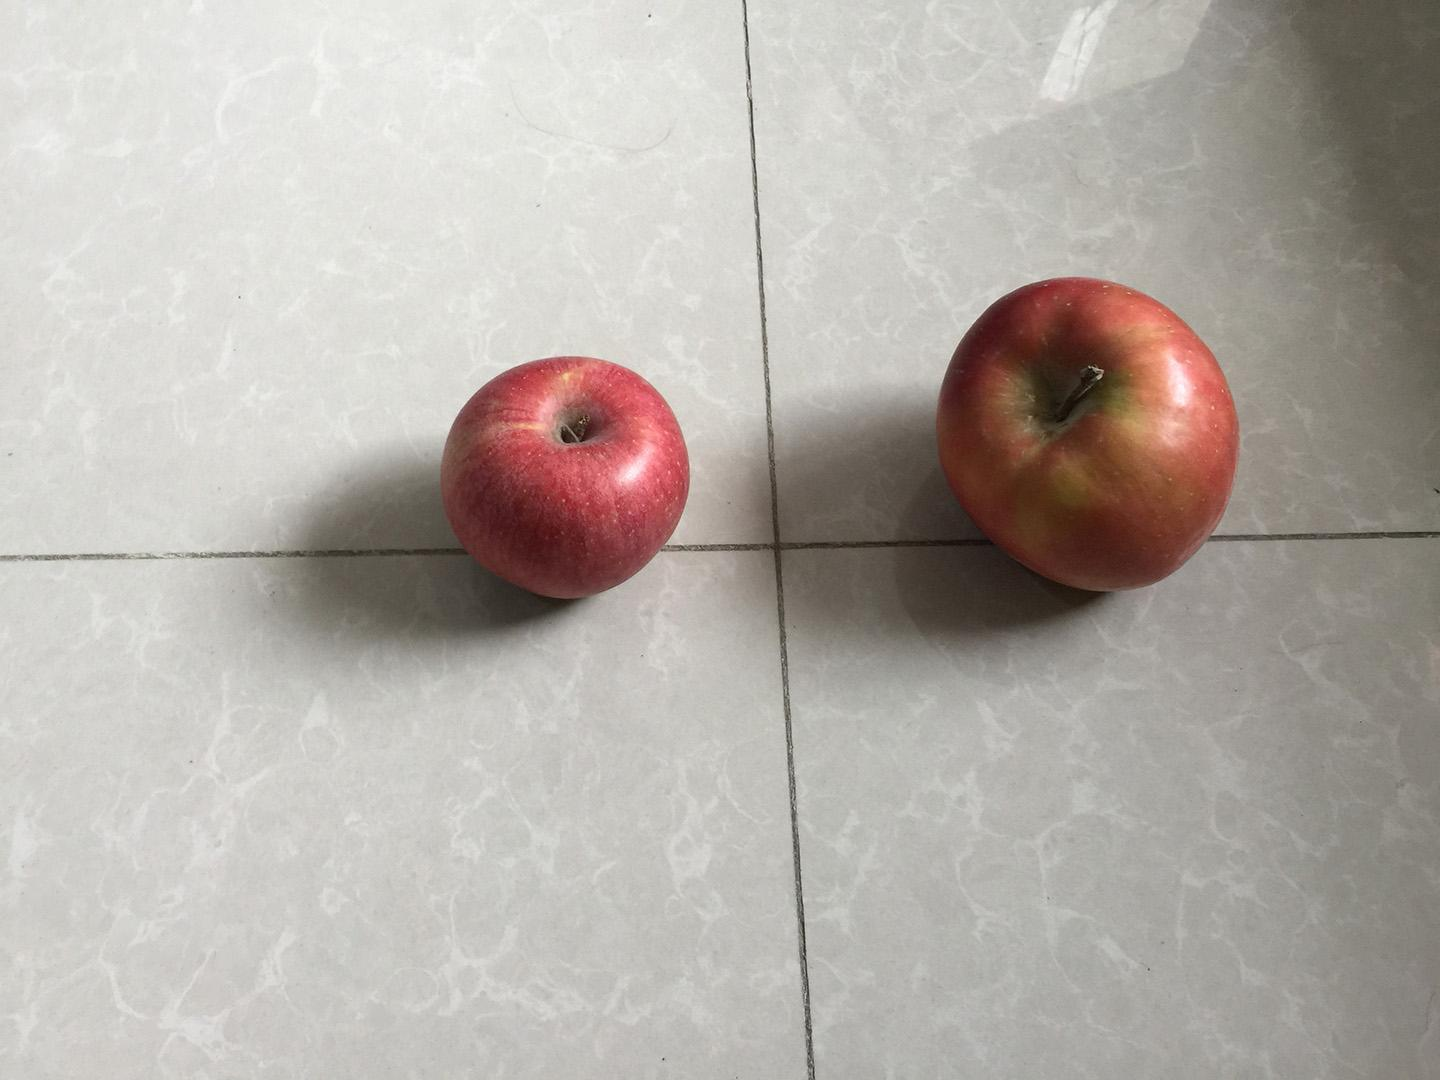apple: (929, 272, 1242, 597), (433, 349, 696, 604)
